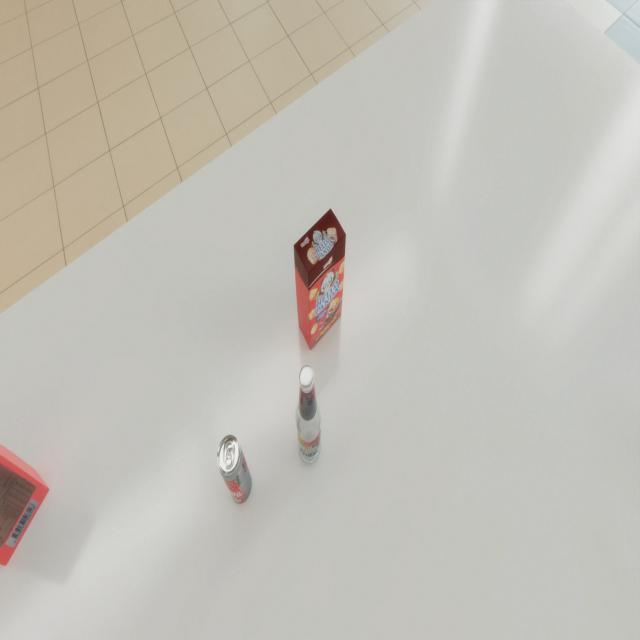Bottle: (295, 365, 322, 466)
HelloPanda: (294, 208, 346, 350)
Rita_zero_sugar: (216, 434, 252, 504)
